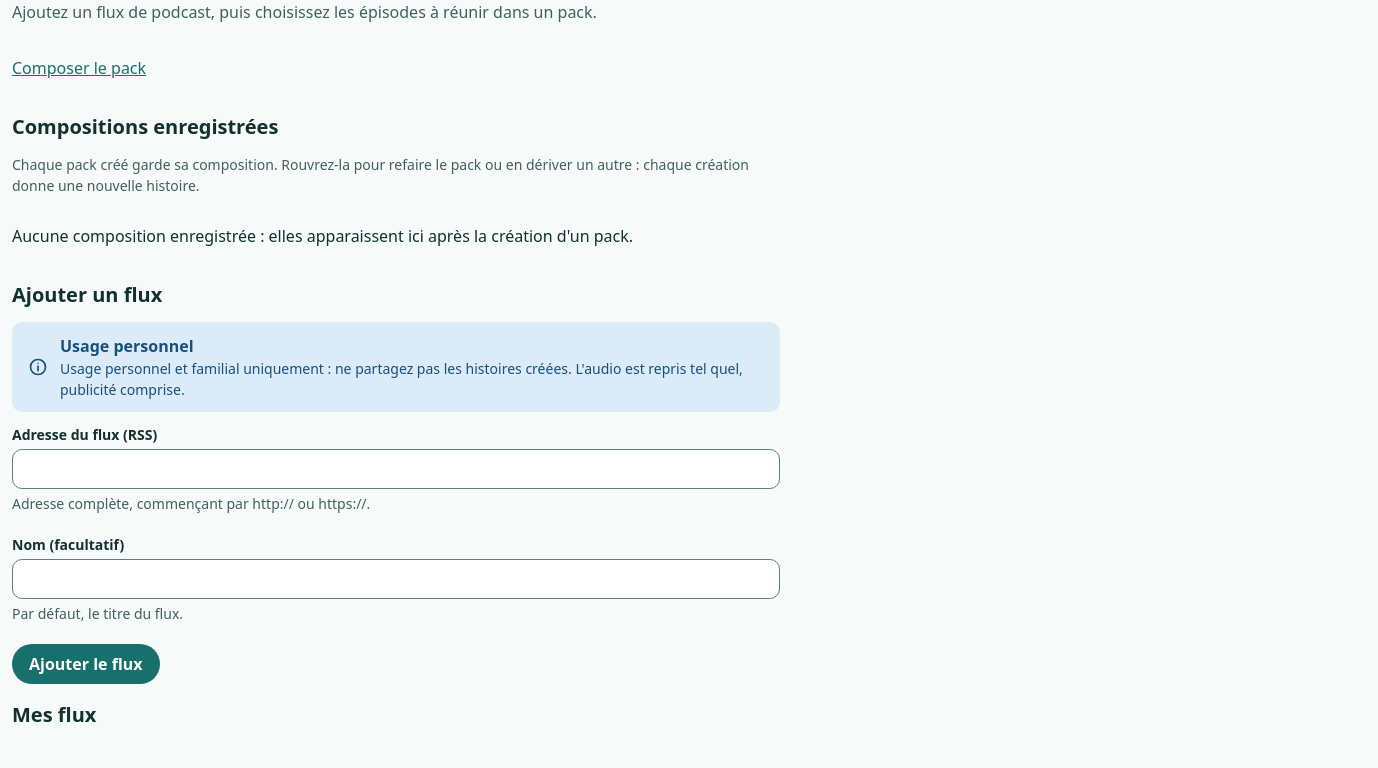
Test: ajoute un flux et affiche ses épisodes
In the field labelled "Adresse du flux (RSS)": (396, 469) x1=12 y1=449 x2=780 y2=489, type "https://exemple.org/new.xml"
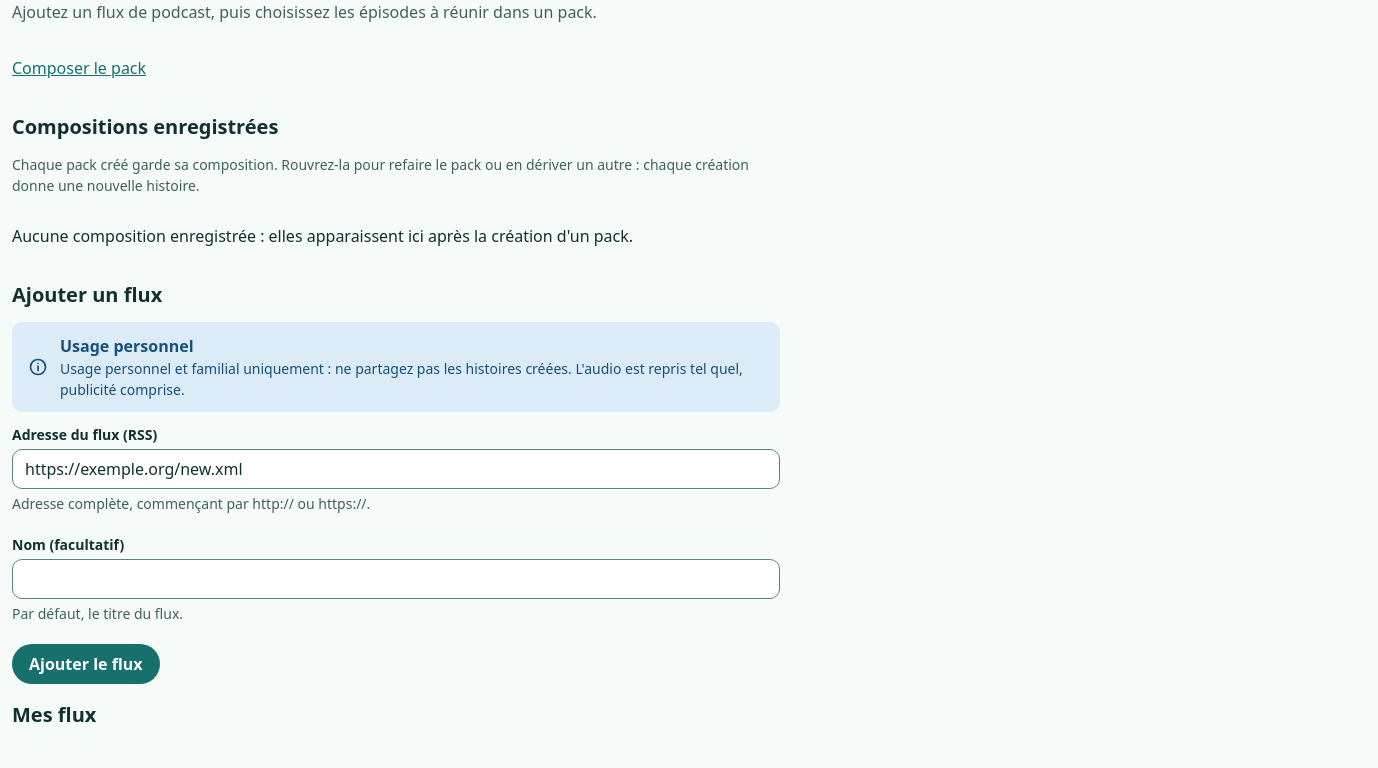
In the field labelled "Nom (facultatif)": (396, 579) x1=12 y1=559 x2=780 y2=599, type "Mon flux"
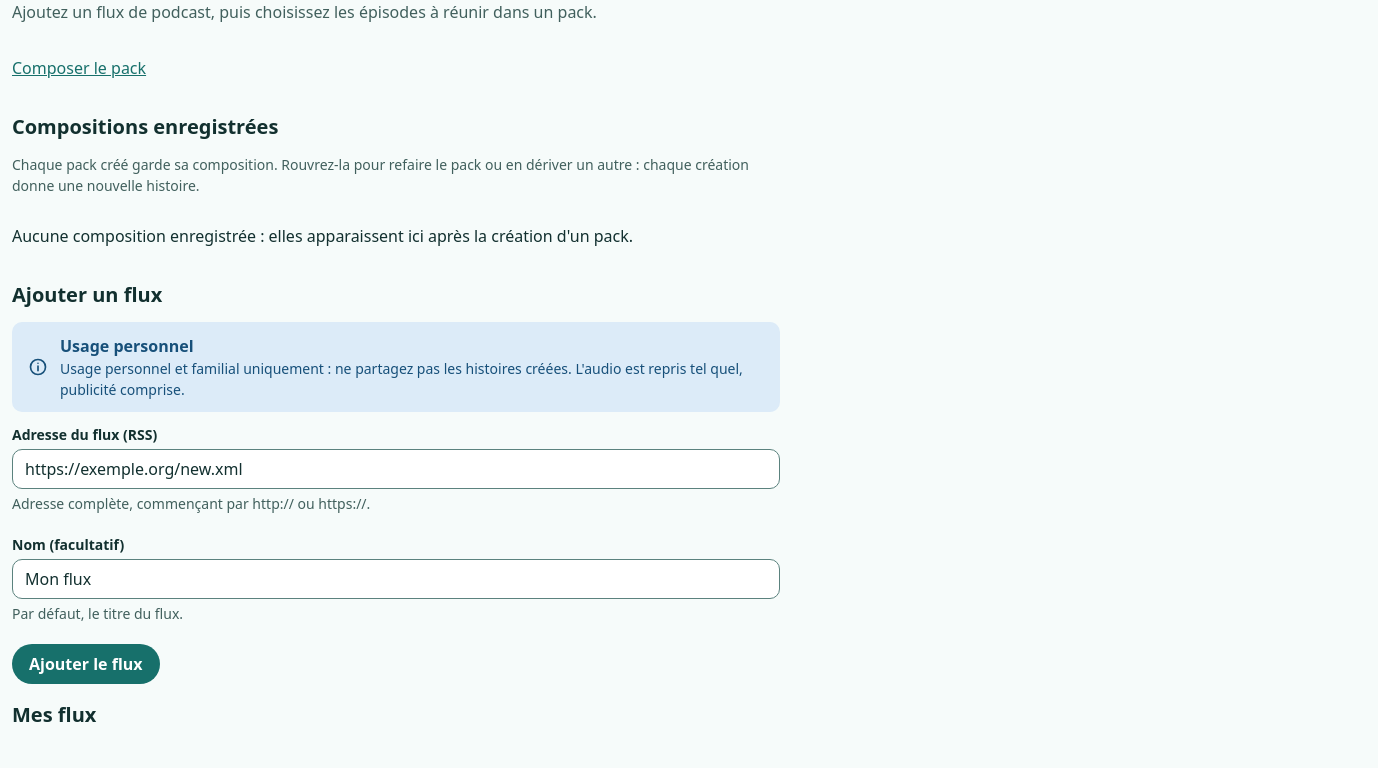
Click the button "Ajouter le flux": (86, 664) x1=12 y1=644 x2=160 y2=684
(page scrolled)
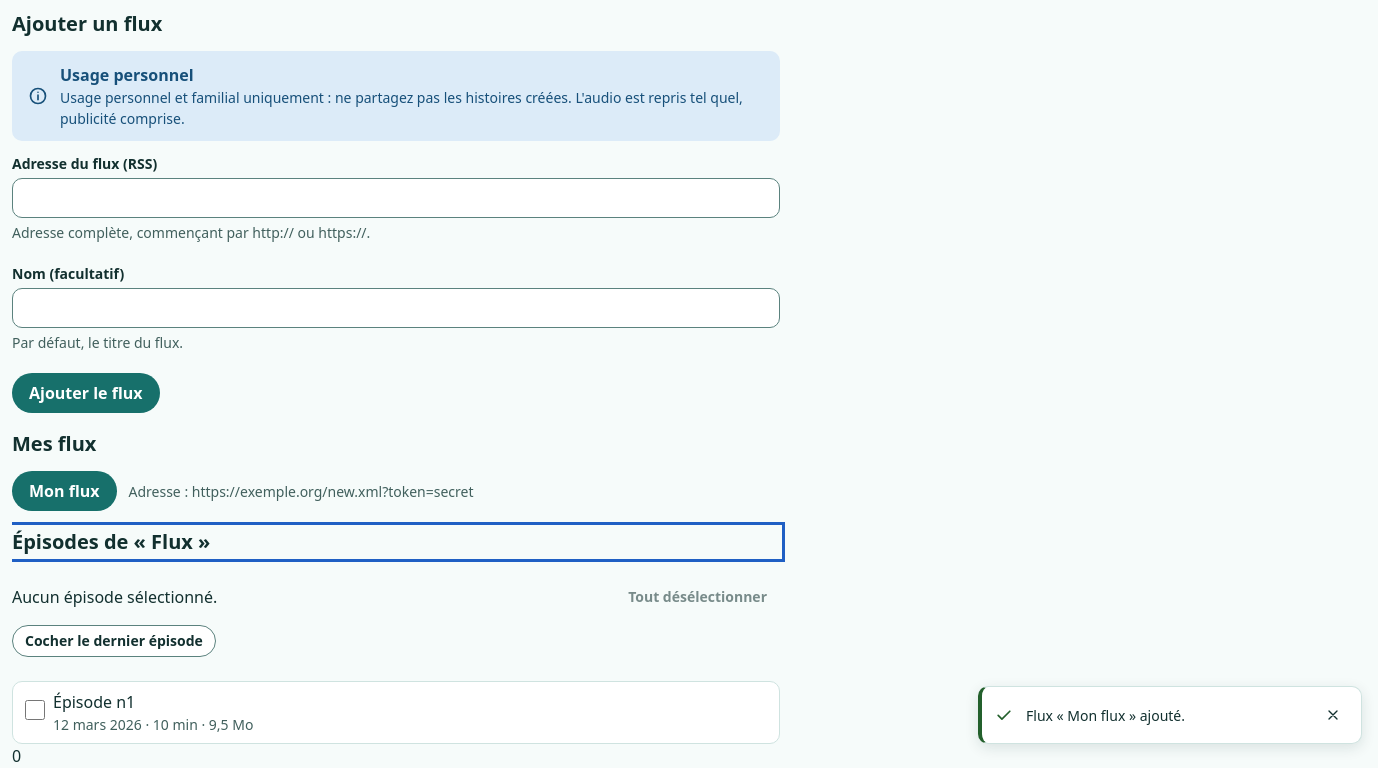
Check: the checkbox labelled "Épisode n1" is shown, box x1=25 y1=700 x2=45 y2=720
Check: the text "Flux « Mon flux » ajouté." is shown, box x1=1026 y1=706 x2=1185 y2=725
